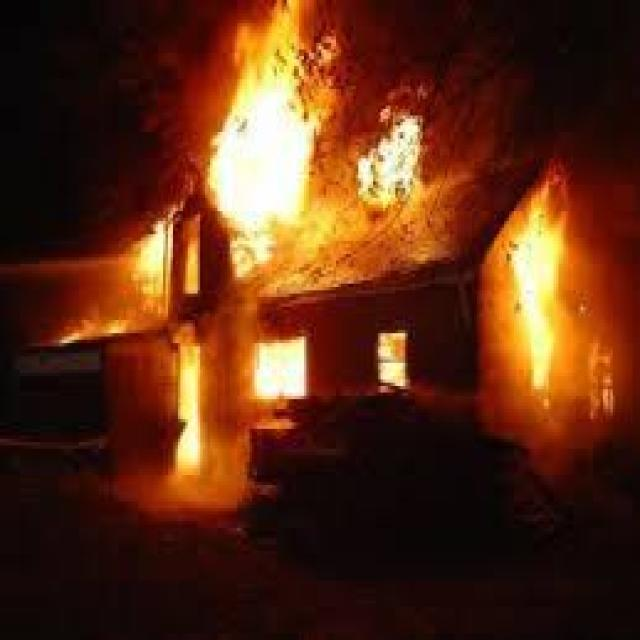Fire: (207, 0, 343, 278), (492, 170, 568, 402), (356, 115, 418, 208), (174, 333, 209, 475), (254, 337, 307, 402), (130, 221, 169, 309), (374, 331, 410, 391)
Smoke: (397, 0, 640, 142)
